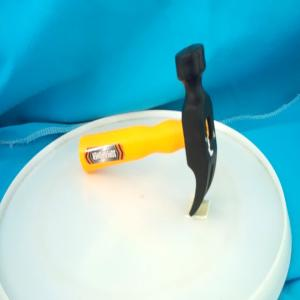martelo: (78, 43, 218, 217)
